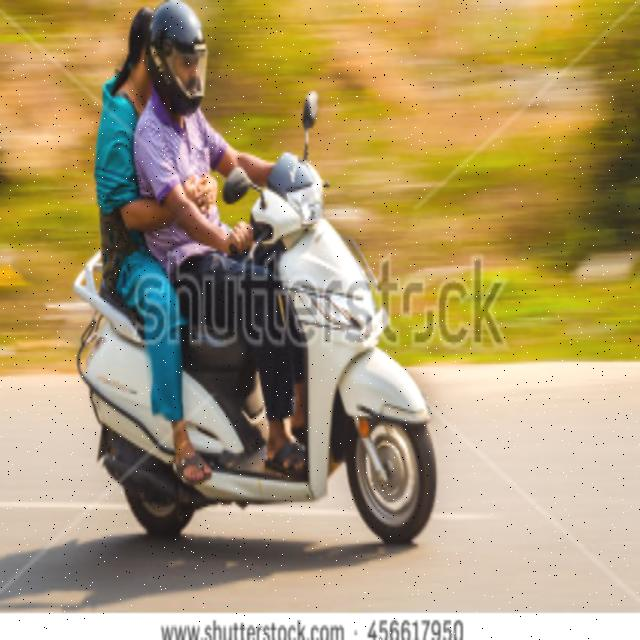not_triplets: (69, 0, 452, 544)
with-helmet: (148, 0, 215, 126)
